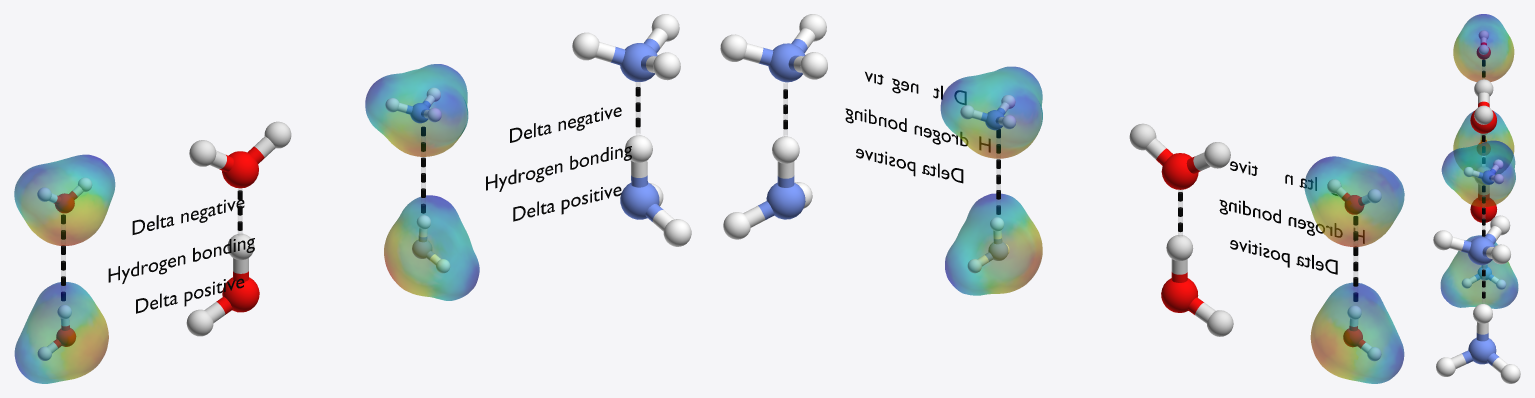
File: hydrogen_bonding_water_and_ammonia.glb
The picture shows the model from 3 angles, left to right: view 1: azimuth 30°, elevation 25°; view 2: azimuth 150°, elevation 25°; view 3: azimuth 270°, elevation 25°; orthographic projection. The views are drawn at different scales.
Visible parts, largest first — view 1: EPM.001_20, EPM_19, Electrostatic potential map.002_4, Electrostatic potential map_3, Ammonia_14, Ammonia.003_15, Water_0, Water.003_1, Ammonia.001_17, Hydrogen bonding.007_33, Hydrogen bonding.006_30, Ammonia.002_18 (+6 smaller); view 2: EPM.001_20, EPM_19, Electrostatic potential map.002_4, Electrostatic potential map_3, Ammonia_14, Ammonia.003_15, Water.003_1, Water_0, Ammonia.001_17, Ammonia.002_18, Water.002_6, Hydrogen bonding.007_33 (+4 smaller); view 3: EPM_19, EPM.001_20, Electrostatic potential map_3, Ammonia.003_15, Electrostatic potential map.002_4, Ammonia_14, Water_0, Water.003_1, Ammonia.001_17, Ammonia.002_18, Water.001_5, Hydrogen bonding.003_23 (+2 smaller).
Part boxes in pixels (box(x1,y1,x2,y2)): EPM.001_20: box(384, 195, 479, 300); EPM_19: box(365, 64, 468, 156); Electrostatic potential map.002_4: box(14, 282, 108, 383); Electrostatic potential map_3: box(14, 154, 115, 245); Ammonia_14: box(572, 14, 680, 81); Ammonia.003_15: box(620, 135, 691, 246); Water_0: box(189, 121, 291, 188); Water.003_1: box(186, 233, 259, 336); Ammonia.001_17: box(385, 87, 441, 123); Hydrogen bonding.007_33: box(486, 146, 631, 191); Hydrogen bonding.006_30: box(108, 238, 254, 283); Ammonia.002_18: box(412, 215, 450, 273); EPM.001_20: box(945, 193, 1042, 295); EPM_19: box(940, 66, 1042, 158); Electrostatic potential map.002_4: box(1310, 282, 1404, 383); Electrostatic potential map_3: box(1304, 156, 1404, 247); Ammonia_14: box(720, 14, 827, 82); Ammonia.003_15: box(723, 136, 812, 239); Water.003_1: box(1161, 235, 1233, 336); Water_0: box(1129, 123, 1230, 189); Ammonia.001_17: box(960, 95, 1016, 130); Ammonia.002_18: box(967, 217, 1009, 273); Water.002_6: box(1343, 305, 1381, 361); Hydrogen bonding.007_33: box(845, 108, 990, 152); EPM_19: box(1441, 140, 1515, 207); EPM.001_20: box(1440, 235, 1518, 308); Electrostatic potential map_3: box(1453, 14, 1514, 81); Ammonia.003_15: box(1436, 304, 1520, 383); Electrostatic potential map.002_4: box(1453, 111, 1514, 176); Ammonia_14: box(1433, 215, 1510, 265); Water_0: box(1470, 79, 1496, 133); Water.003_1: box(1470, 166, 1497, 222); Ammonia.001_17: box(1463, 159, 1503, 184); Ammonia.002_18: box(1461, 264, 1506, 289); Water.001_5: box(1476, 30, 1490, 59); Hydrogen bonding.003_23: box(1482, 185, 1485, 236).
Bounding box in the file's own units: 6.84 × 2.12 × 1.08.
Materials: 13 (2 with a texture image).
